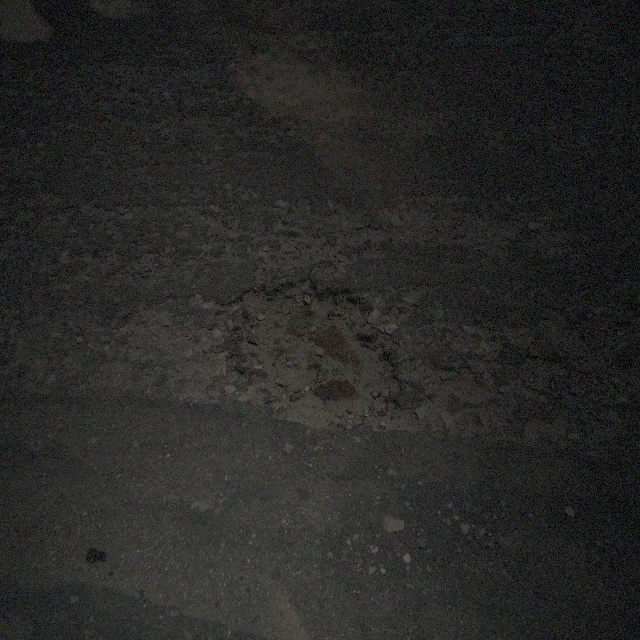pothole: (212, 272, 412, 436), (513, 303, 639, 404)
